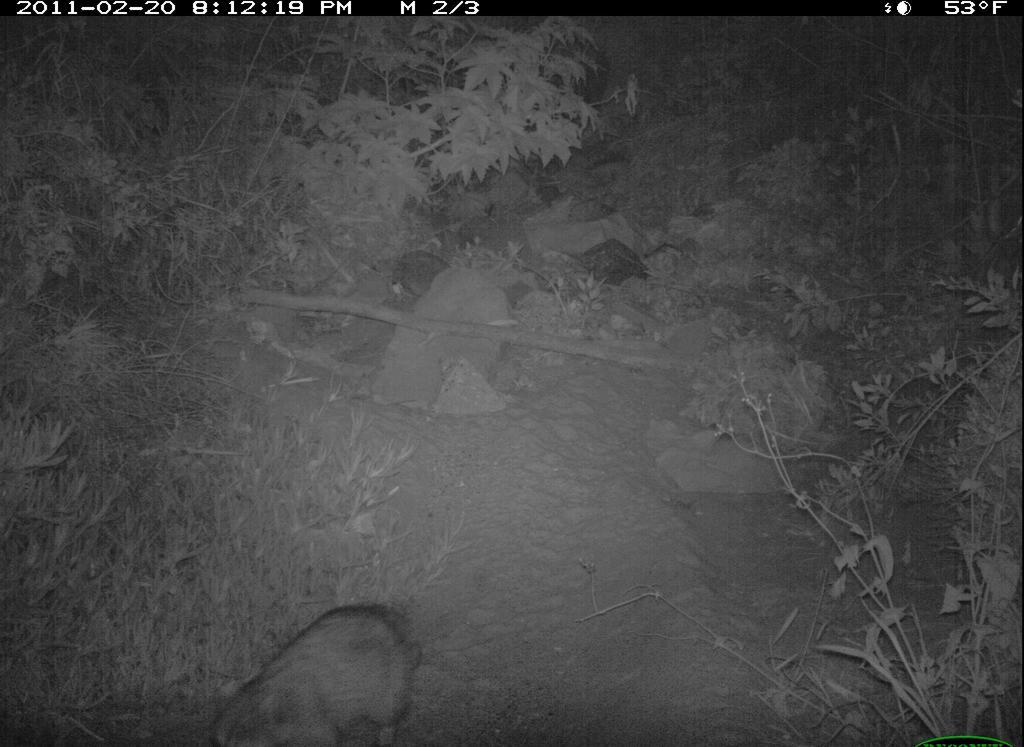raccoon: (190, 597, 451, 747)
